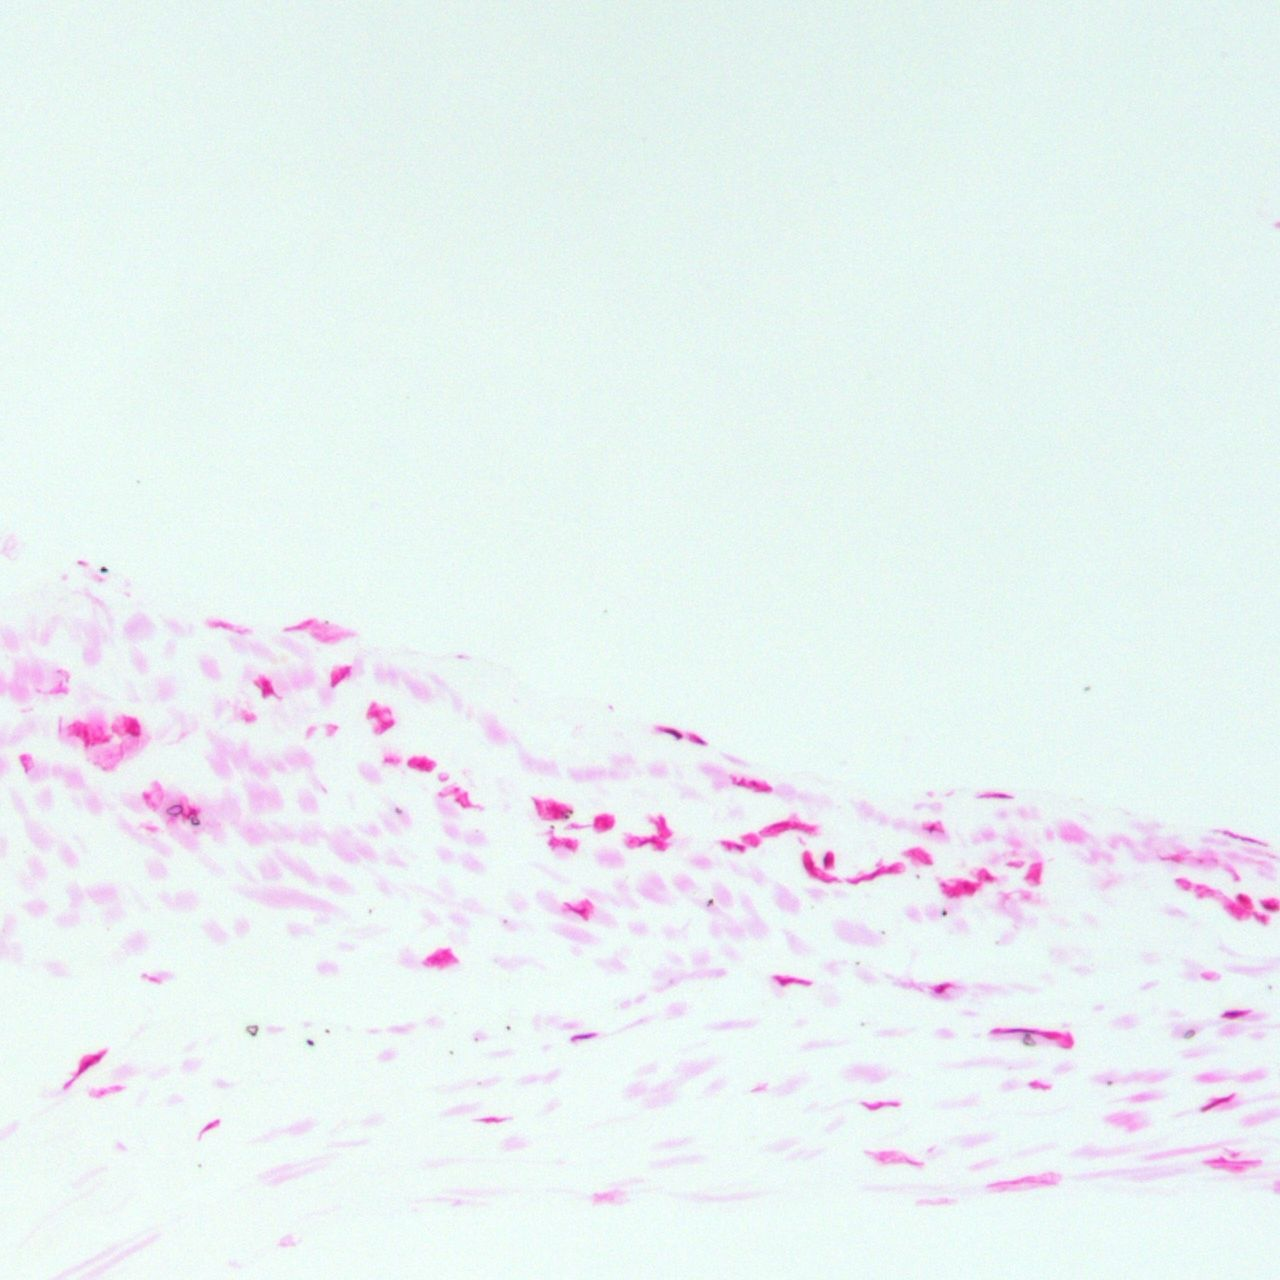dust: (1020, 1033, 1036, 1047), (166, 804, 182, 815), (245, 1025, 259, 1036), (1183, 1029, 1195, 1039), (1081, 684, 1092, 694), (705, 897, 715, 907), (305, 1039, 314, 1046), (190, 819, 200, 825), (394, 806, 400, 815), (1104, 1079, 1113, 1085), (100, 566, 108, 572), (941, 910, 948, 916), (548, 824, 556, 829), (915, 874, 921, 880), (501, 919, 508, 924), (367, 907, 371, 915), (476, 1081, 484, 1085), (564, 814, 569, 820), (854, 960, 860, 965), (880, 929, 886, 934), (506, 1024, 510, 1031), (136, 479, 141, 484), (449, 1049, 454, 1054), (568, 809, 573, 814), (473, 1037, 479, 1041), (325, 1028, 330, 1032), (860, 1022, 865, 1026), (1268, 985, 1272, 989)
nucleus-FG: (58, 1047, 105, 1089), (849, 861, 903, 888), (1215, 826, 1268, 848), (733, 774, 774, 795), (1200, 1090, 1238, 1112), (196, 1116, 220, 1138), (773, 975, 812, 987), (330, 666, 350, 689), (563, 901, 589, 918), (658, 723, 683, 740), (282, 620, 314, 633), (861, 1101, 903, 1110), (801, 851, 816, 875), (988, 1026, 1039, 1033), (974, 791, 1011, 800), (427, 949, 447, 965), (547, 839, 576, 849), (932, 980, 951, 995), (638, 835, 661, 846), (378, 718, 396, 732), (1025, 868, 1043, 882), (476, 1117, 506, 1125), (1222, 1009, 1248, 1018), (569, 1032, 598, 1040), (82, 724, 91, 749), (407, 763, 432, 772), (551, 800, 561, 820), (1236, 893, 1250, 907), (1041, 1030, 1062, 1039), (260, 677, 268, 700), (692, 736, 710, 746), (767, 822, 789, 830), (729, 843, 748, 852), (1029, 1081, 1050, 1089), (658, 814, 667, 832), (1262, 902, 1280, 911), (19, 757, 28, 774), (956, 880, 971, 890), (593, 815, 605, 827), (823, 851, 831, 869), (128, 717, 139, 727), (456, 799, 468, 808), (983, 873, 995, 882), (1253, 914, 1268, 921), (125, 729, 138, 736), (186, 808, 197, 816), (102, 736, 110, 743), (269, 685, 275, 694), (929, 824, 934, 833)
